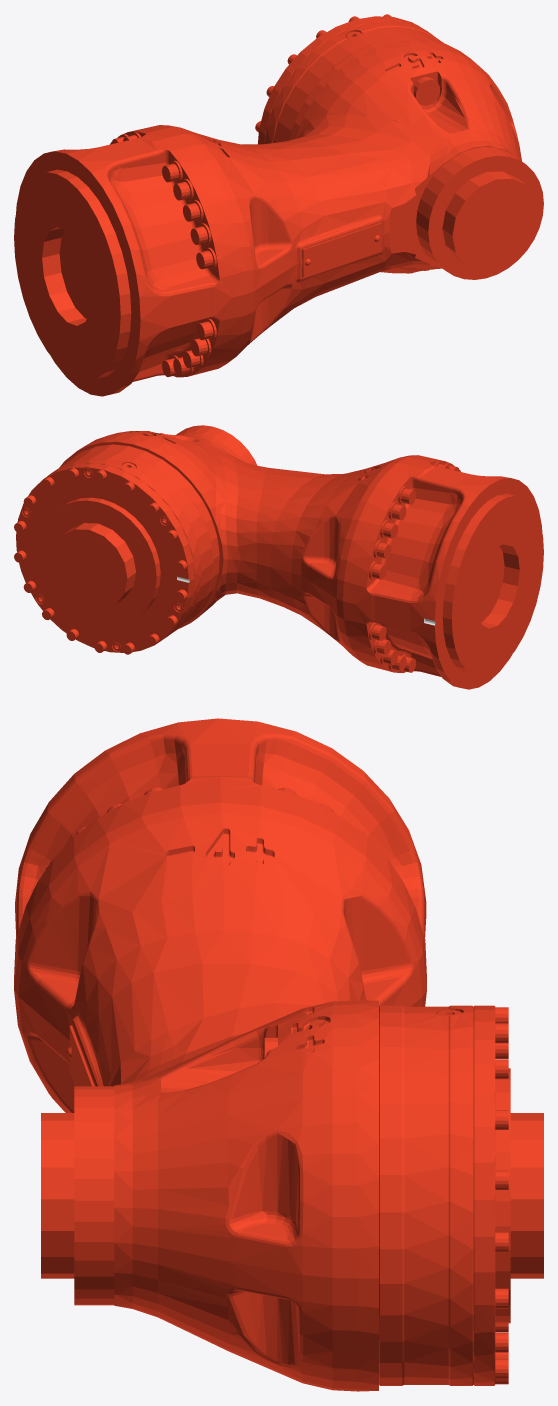
The picture shows the model from 3 angles, top to bottom: view 1: azimuth 30°, elevation 25°; view 2: azimuth 150°, elevation 25°; view 3: azimuth 270°, elevation 25°; orthographic projection. The views are drawn at different scales.
Parts seen in each view (by area): view 1: link_4; view 2: link_4; view 3: link_4.
Part boxes in pixels (x1,y1,x2,y2): link_4: (14,14,543,396); link_4: (14,425,543,689); link_4: (14,718,543,1391).
Bounding box in the file's own units: 0.2725 × 0.1598 × 0.1245.
